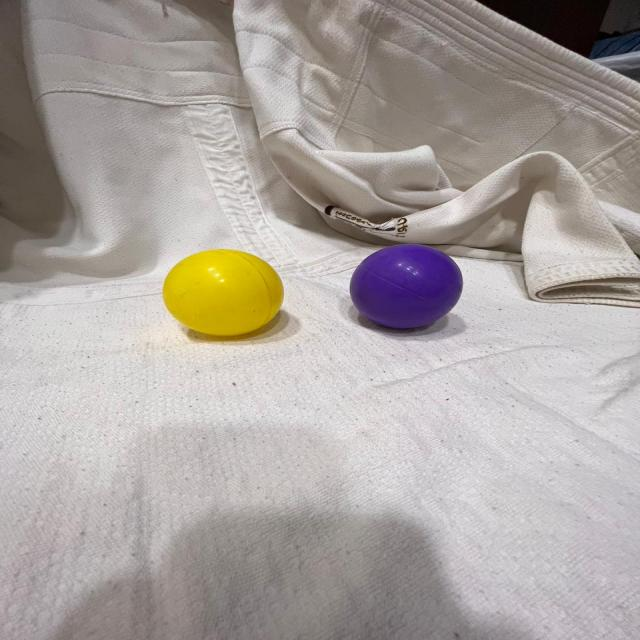ball: (158, 245, 288, 339), (348, 239, 464, 331)
